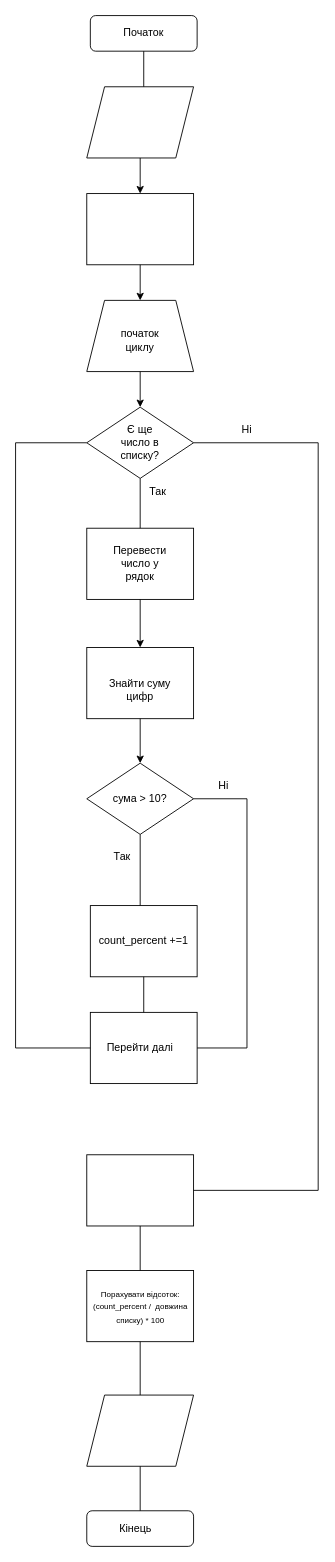
Some shapes in this 335 by 1562 pixel diagram are drawn without their labels. The centre of each missing label's shape, as x and y in pixels:
"count_percent=0" goes at (140,229).
"Введення: список чисел" goes at (140,122).
"Вивести результат" goes at (140,1430).
"Вийти з циклу" goes at (140,1190).
